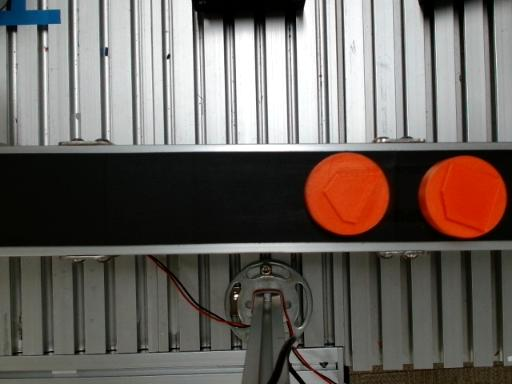Not_Square: (440, 160, 501, 232), (322, 171, 382, 225)
Orange_Waper: (418, 156, 506, 238), (306, 153, 389, 235)
